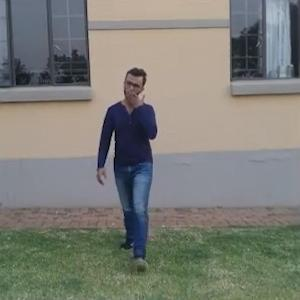follow: (108, 68, 163, 244)
